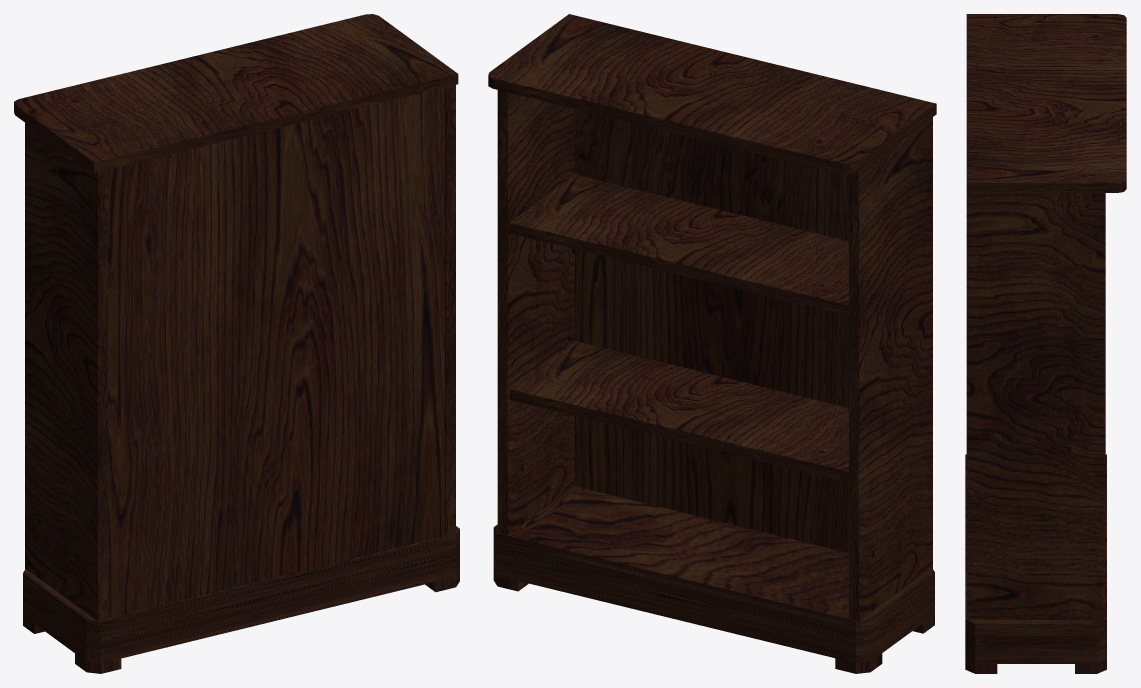
The model's file is shelf3 1.glb.
The picture shows the model from 3 angles, left to right: view 1: azimuth 30°, elevation 25°; view 2: azimuth 150°, elevation 25°; view 3: azimuth 270°, elevation 25°; orthographic projection. The views are drawn at different scales.
Visible parts, largest first — view 1: SHELFMAIN; view 2: SHELFMAIN; view 3: SHELFMAIN.
Boxes of the visible parts, <box> form: SHELFMAIN: <box>14,14,459,673</box>; SHELFMAIN: <box>488,14,936,673</box>; SHELFMAIN: <box>965,14,1126,673</box>.
Size of the model in its own units: 1.44 by 1.89 by 0.5665.
Materials: 1 (1 with a texture image).
